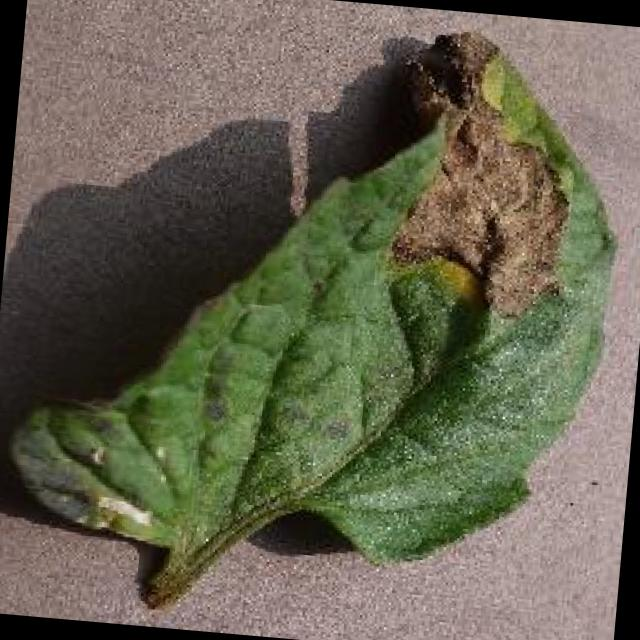Tomato_Late_Blight: (388, 20, 597, 292)
